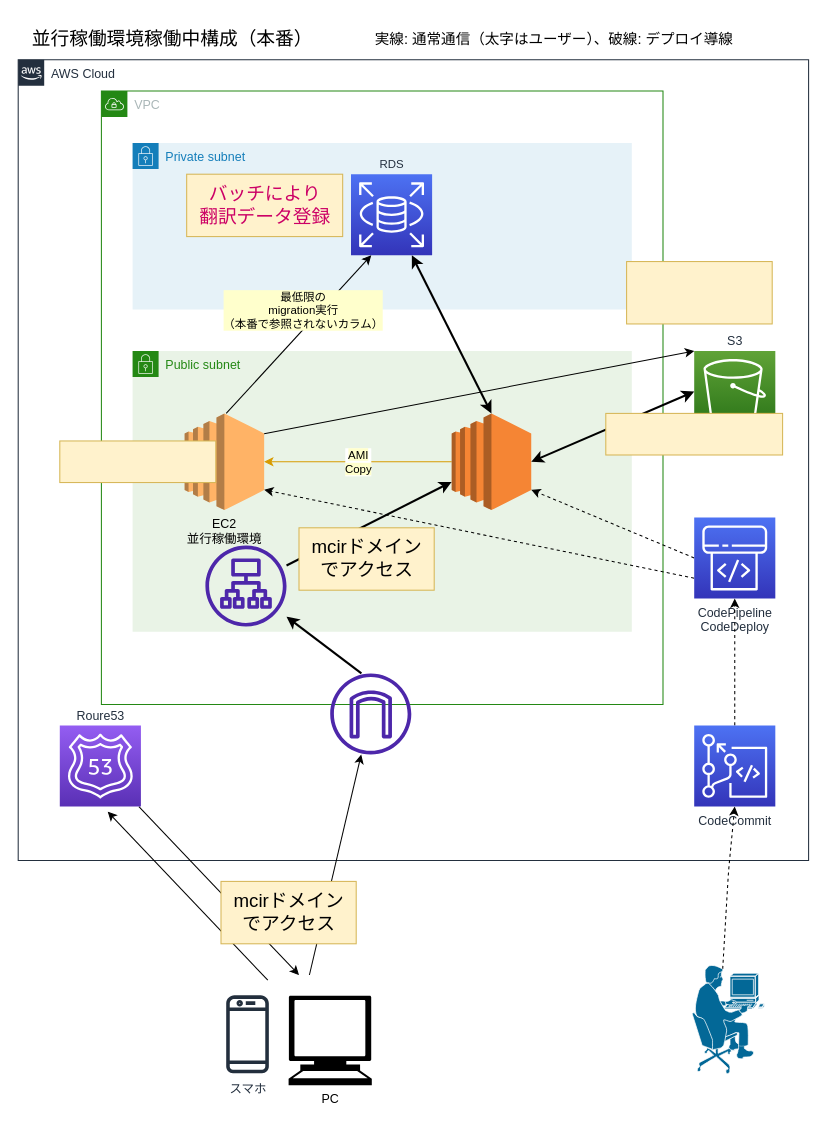
Some shapes in this 827 by 1124 pixel diagram are drawn without their labels. Here are the shapes that lost their labels. From the top down, the centre of each, then its label:
the point at 699,292: バッチにより PDFHTML変換
the point at 694,433: PDFアップロード
the point at 137,461: バッチ稼働のみ
the point at 491,461: EC2 本番環境
the point at 245,585: ELB
the point at 370,713: InternetGateway
the point at 728,1019: Developper
